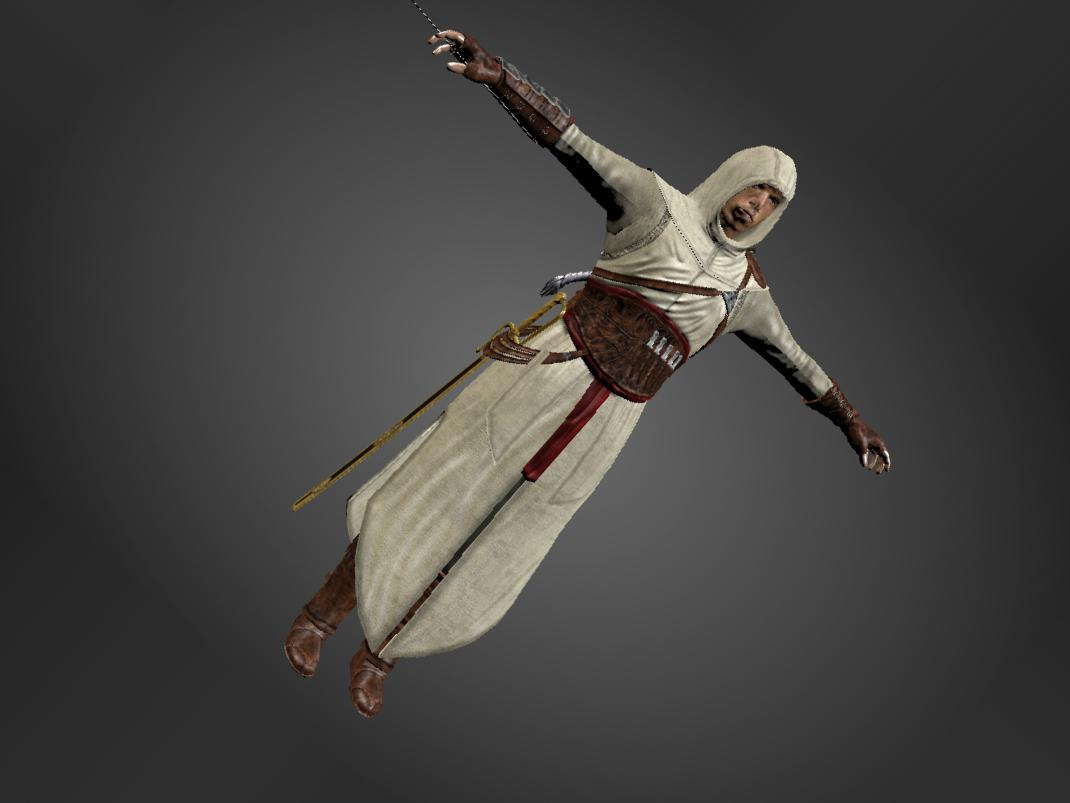clip: (524, 347, 555, 374)
